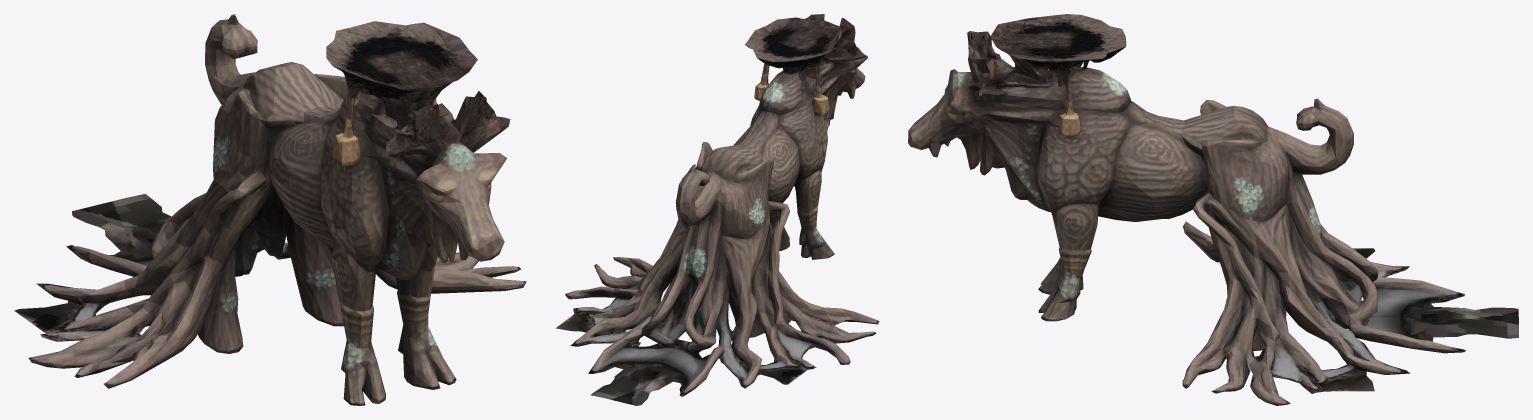
Rendered from bramblehoof__elderwoodWarden.glb.
The picture shows the model from 3 angles, left to right: view 1: azimuth 30°, elevation 25°; view 2: azimuth 150°, elevation 25°; view 3: azimuth 270°, elevation 25°; orthographic projection. The views are drawn at different scales.
Parts seen in each view (by area): view 1: world; view 2: world; view 3: world.
Boxes of the visible parts, x1,y1,x2,y2 form: world: (14,14,526,405); world: (556,14,879,405); world: (908,14,1518,405).
Size of the model in its own units: 0.6763 by 0.5272 by 1.
1 material, 1 textured.
